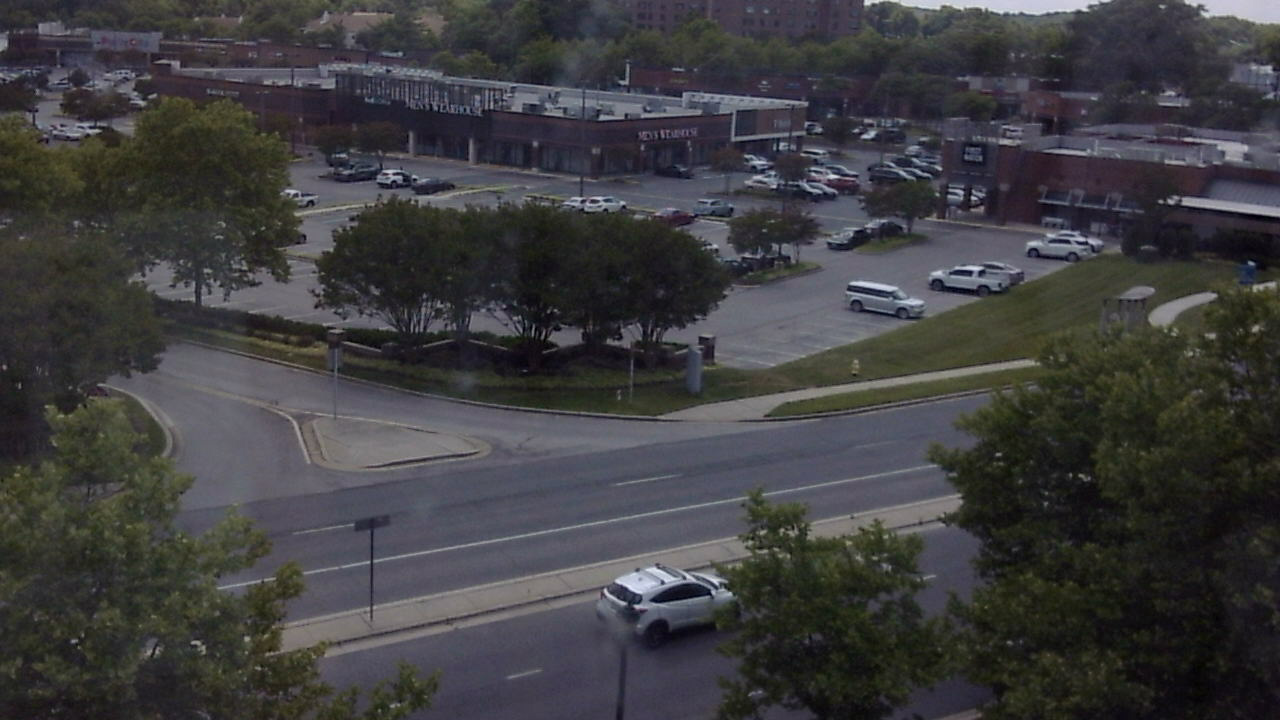Car: (576, 547, 761, 659)
